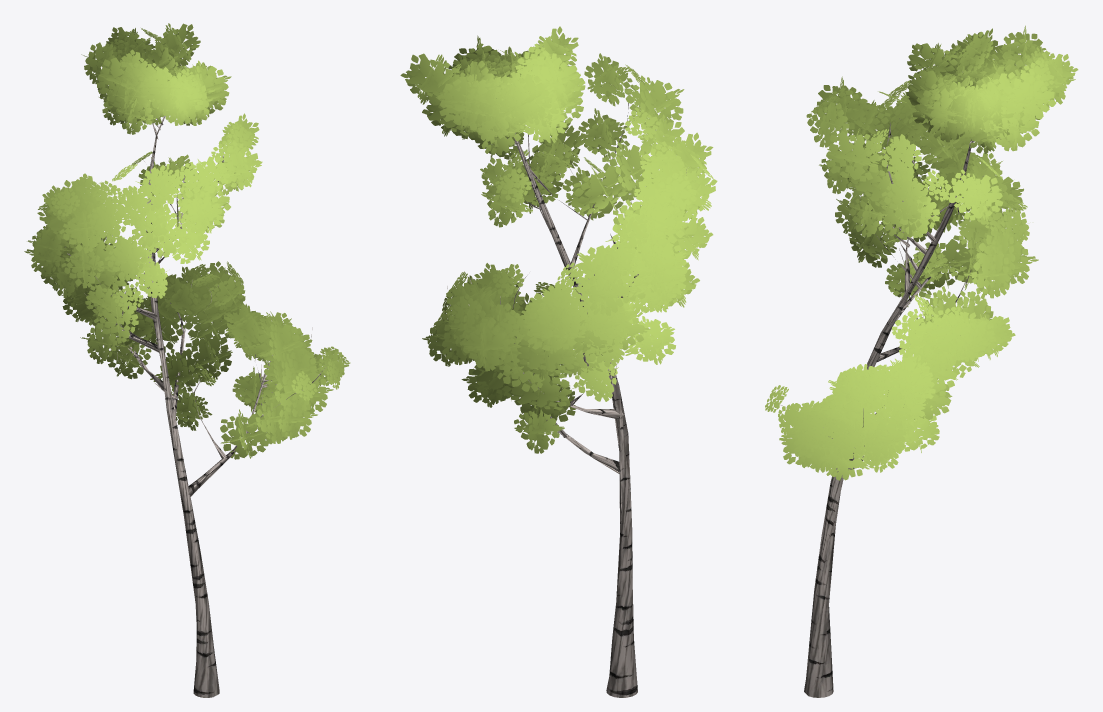
The model's file is nkbirch5.lod1.glb.
3 views of the same model, side by side, from view 1: azimuth 30°, elevation 25°; view 2: azimuth 150°, elevation 25°; view 3: azimuth 270°, elevation 25° (orthographic). The views are drawn at different scales.
Visible parts, largest first — view 1: Birch_5; view 2: Birch_5; view 3: Birch_5.
Part boxes in pixels (x1,y1,x2,y2): Birch_5: [24, 23, 350, 697]; Birch_5: [400, 26, 717, 697]; Birch_5: [765, 25, 1078, 697].
Bounding box in the file's own units: 6.55 × 13.72 × 6.18.
2 materials, 2 textured.
